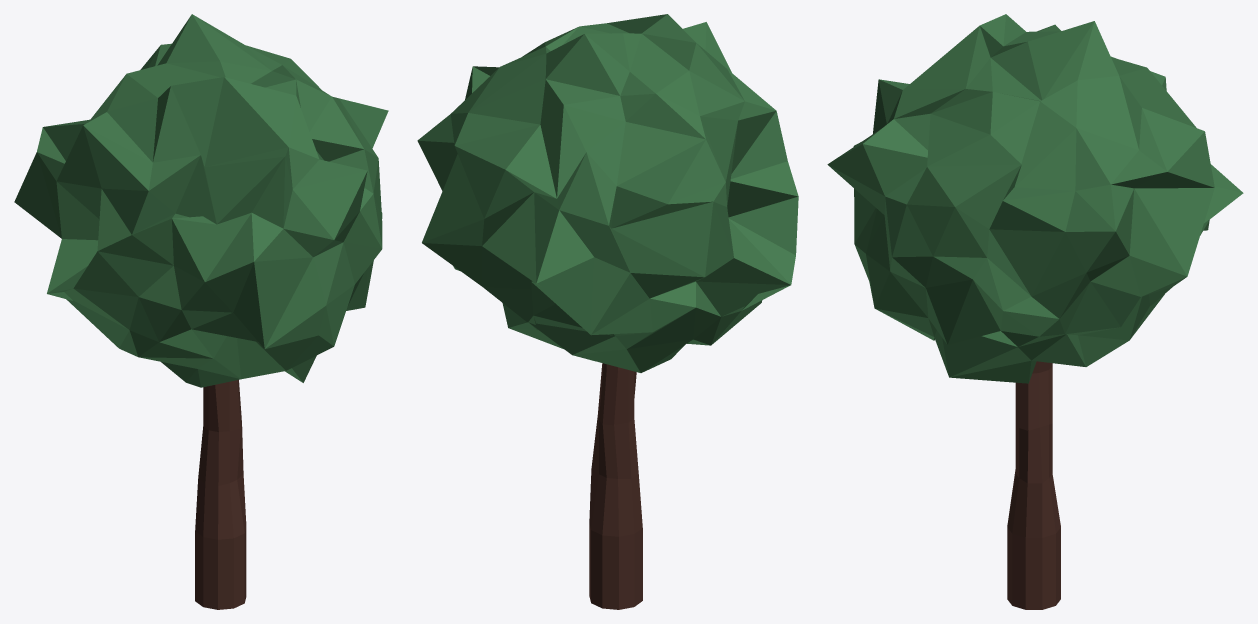
The model's file is Tree.glb.
3 views of the same model, side by side, from view 1: azimuth 30°, elevation 25°; view 2: azimuth 150°, elevation 25°; view 3: azimuth 270°, elevation 25° (orthographic). The views are drawn at different scales.
Parts seen in each view (by area): view 1: Tree Trunk; view 2: Tree Trunk; view 3: Tree Trunk.
Part boxes in pixels (x1,y1,x2,y2): Tree Trunk: [14, 14, 388, 609]; Tree Trunk: [417, 14, 798, 609]; Tree Trunk: [827, 14, 1243, 609].
Size of the model in its own units: 20.83 by 34.61 by 22.57.
